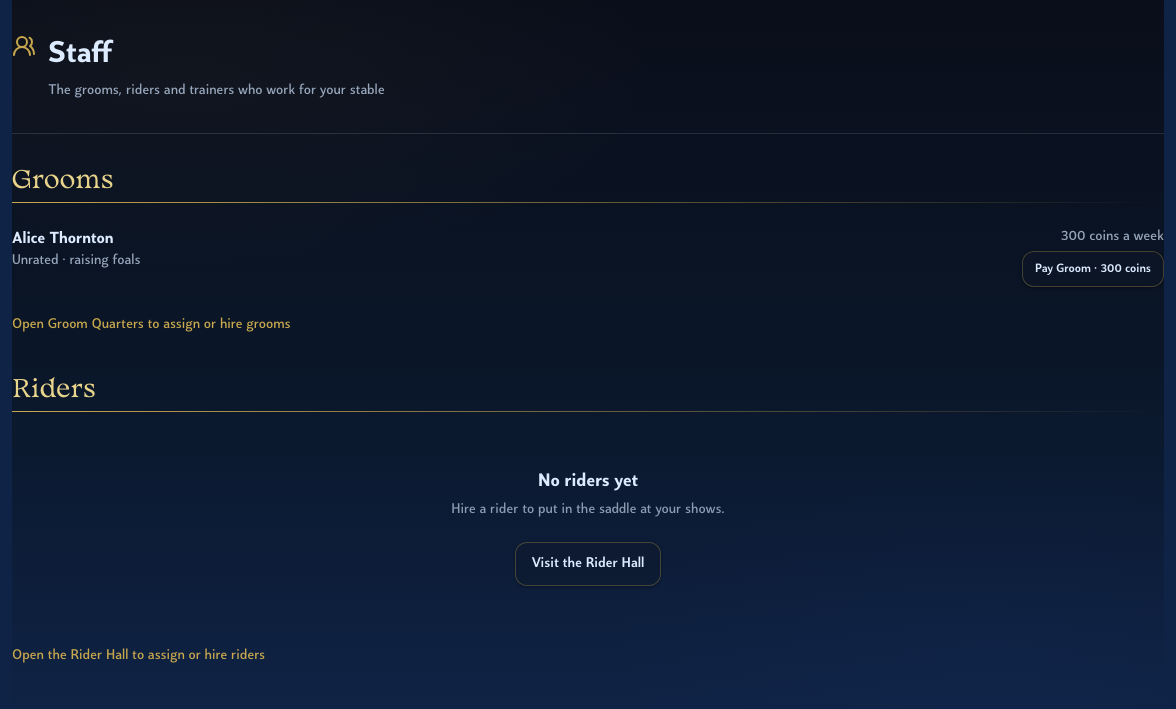
StaffPage › a refused press names the reason in words, never the code
Click the button with test id "pay-groom-1": point(1093, 269) 1022,251 -> 1164,287
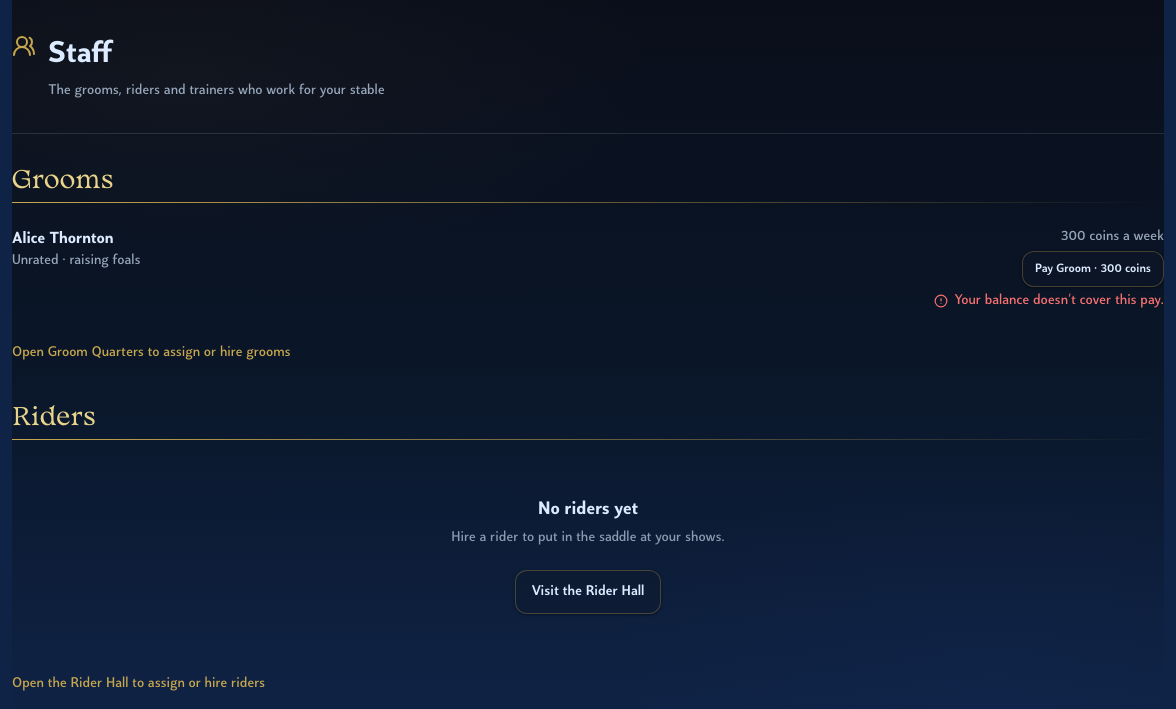
Now the text "Your balance doesn't cover this pay." is shown, box 954,291 -> 1164,311
